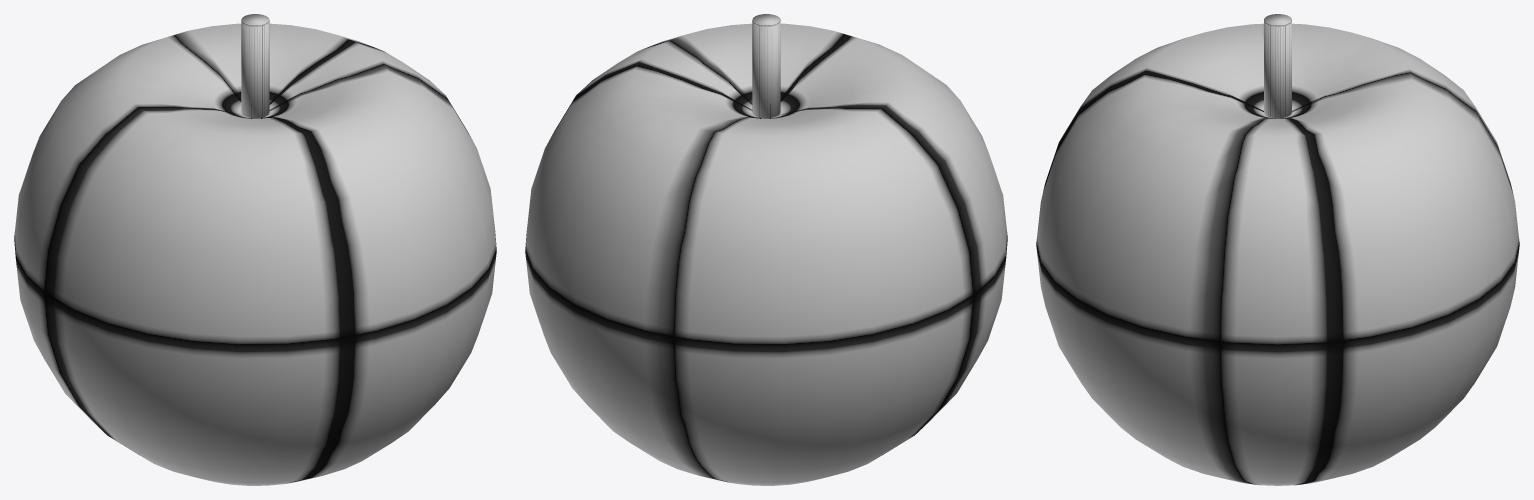
File: apple.obj
3 renders of one model, left to right at view 1: azimuth 30°, elevation 25°; view 2: azimuth 150°, elevation 25°; view 3: azimuth 270°, elevation 25°, orthographic.
Parts seen in each view (by area): view 1: 球; view 2: 球; view 3: 球.
Boxes of the visible parts, x1,y1,x2,y2 form: 球: (14, 14, 496, 485); 球: (525, 14, 1007, 485); 球: (1036, 14, 1519, 485).
Size of the model in its own units: 4 by 3.91 by 4.
